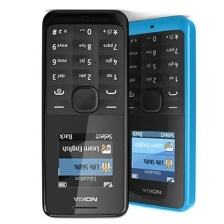phone: (39, 7, 131, 221), (104, 11, 198, 214)
